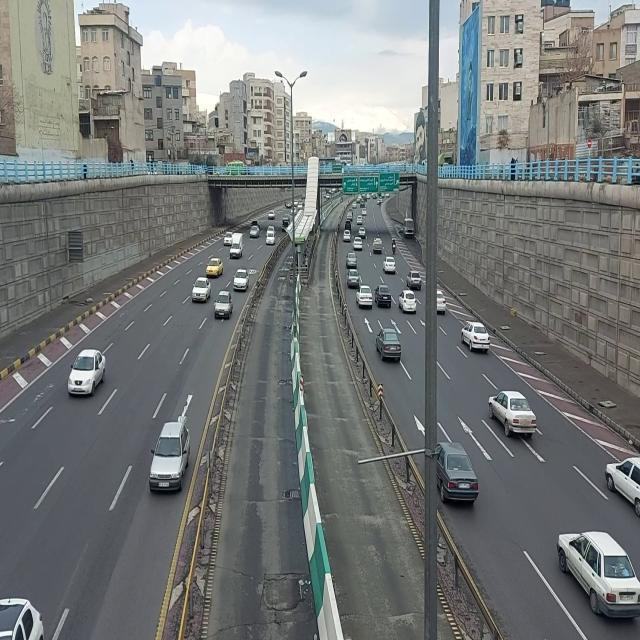Car: (554, 526, 640, 621), (149, 417, 193, 498), (487, 383, 541, 441), (67, 346, 108, 402), (461, 320, 491, 354), (375, 327, 403, 363), (192, 277, 212, 304), (215, 290, 233, 318), (375, 284, 393, 310), (399, 288, 417, 312), (206, 256, 224, 279), (356, 286, 374, 308), (233, 268, 249, 292), (406, 269, 422, 291), (383, 255, 397, 275), (347, 268, 361, 288)
